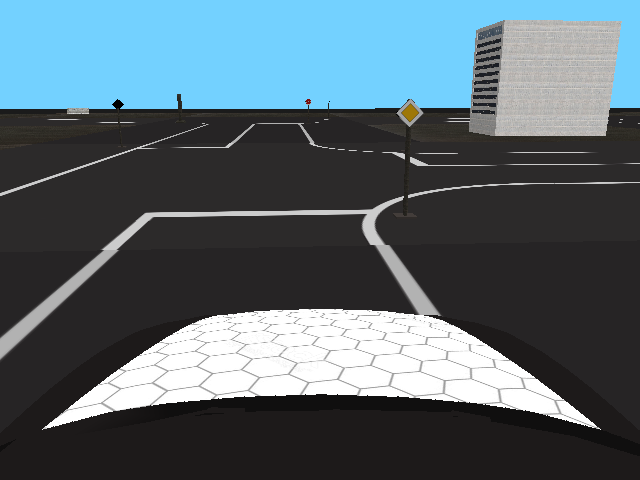yellow_light: (397, 99, 423, 127)
